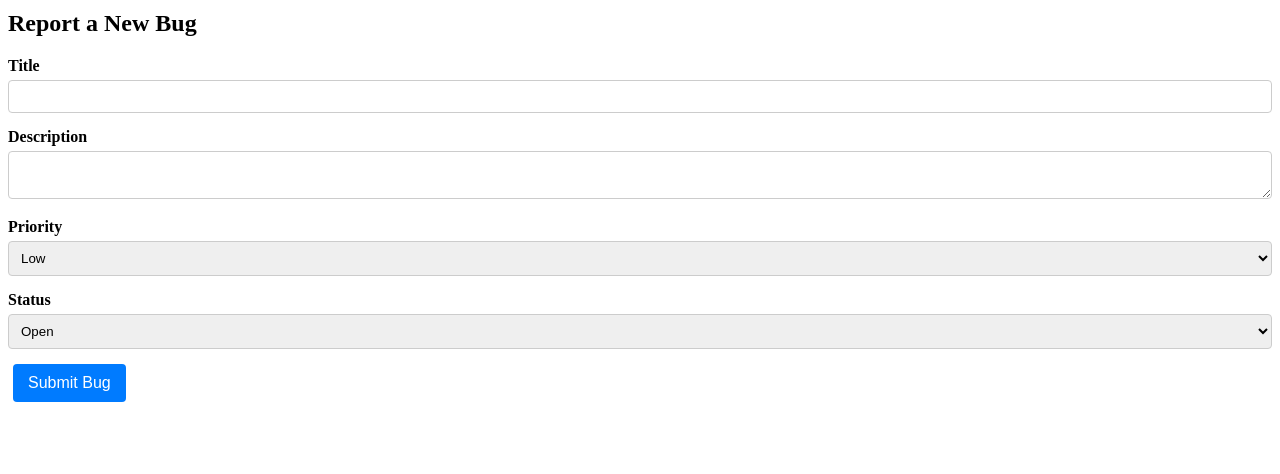
Test: Form Submission and Validation Integration Tests › BugForm Component Validation › should clear validation errors when user starts typing
In the field with test id "title-input": (640, 96) [8,80,1272,113], type "Test"
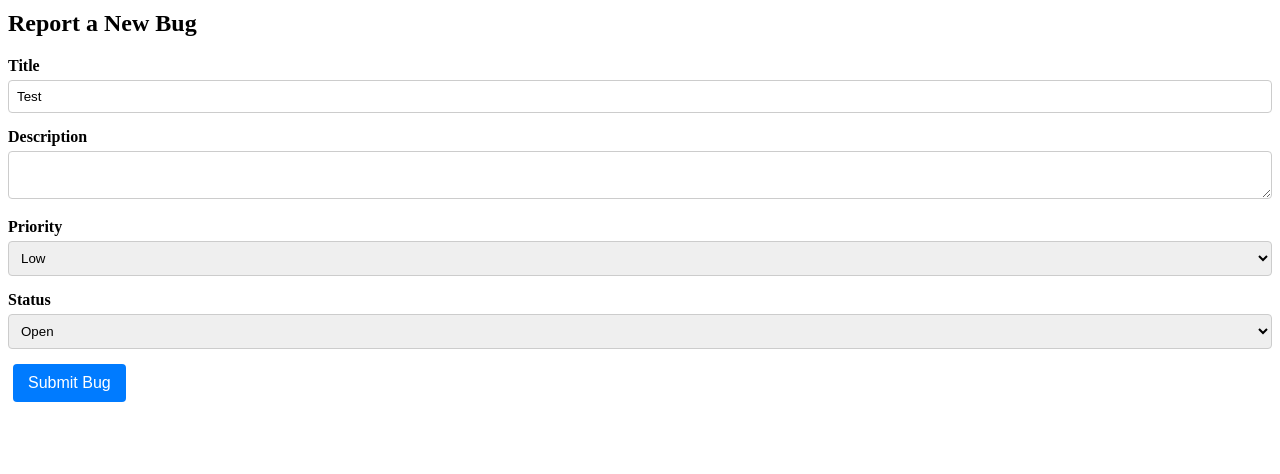
In the text box with test id "description-input": (640, 175) [8,151,1272,199], type "This is a valid description that meets requirements"
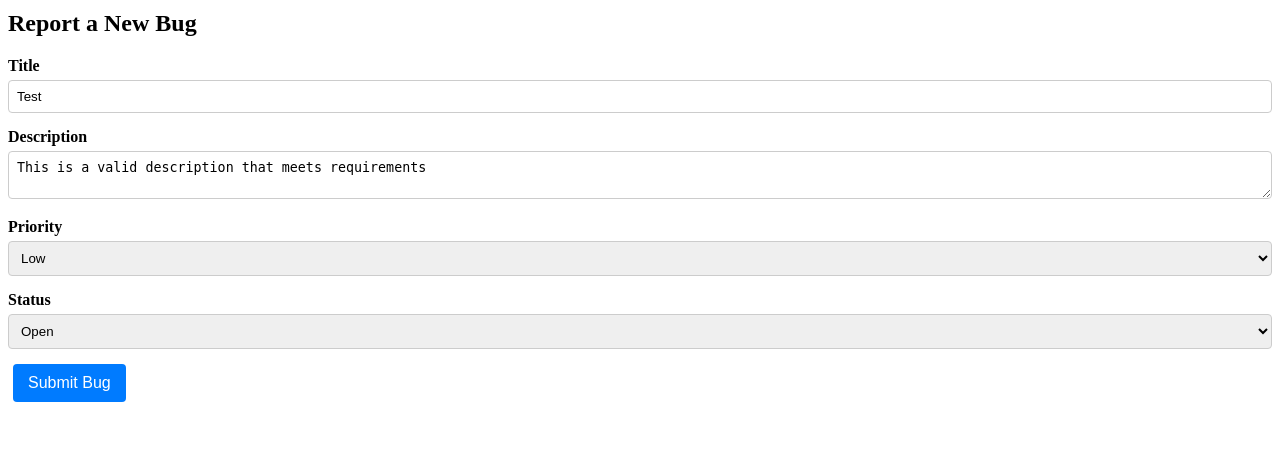
Click the button with test id "submit-button": (69, 383) [13,364,126,402]
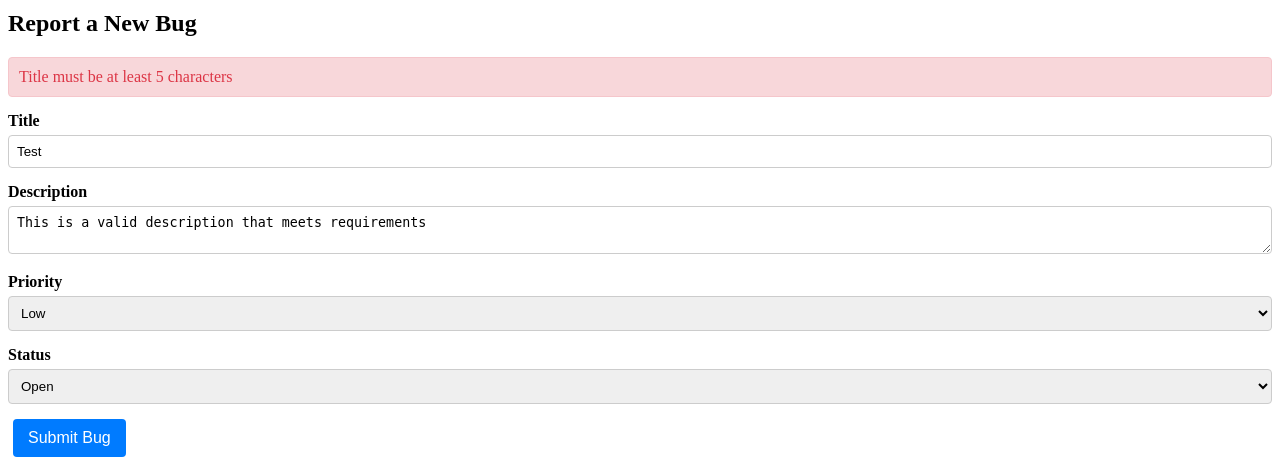
Expected: the text "Title must be at least 5 characters" is shown, [8,57,1272,97]
Replace the text in the field with test id "title-input" with "Valid Bug Title": (640, 151) [8,135,1272,168]
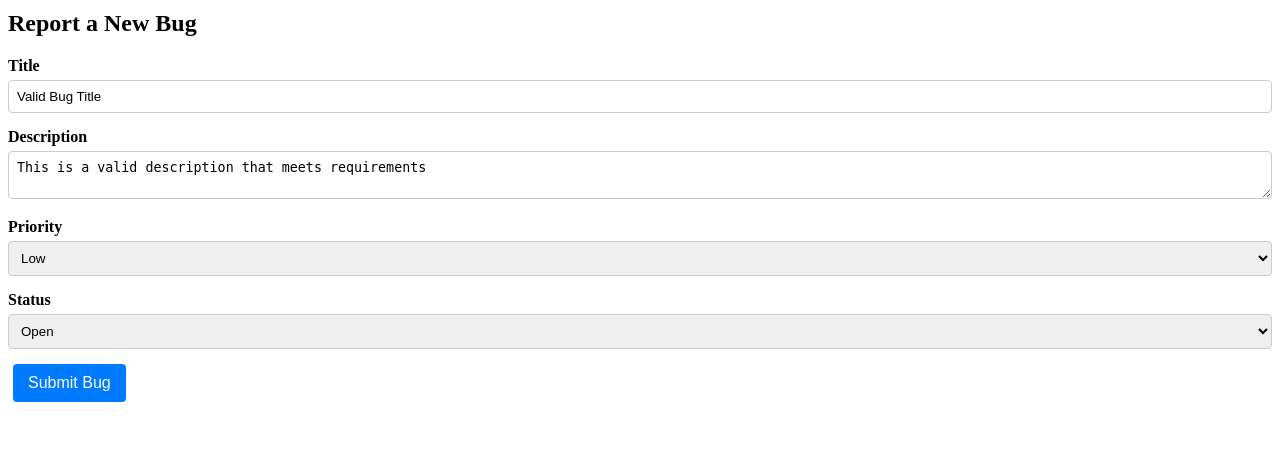
Expected: the message with test id "error-message" is gone
